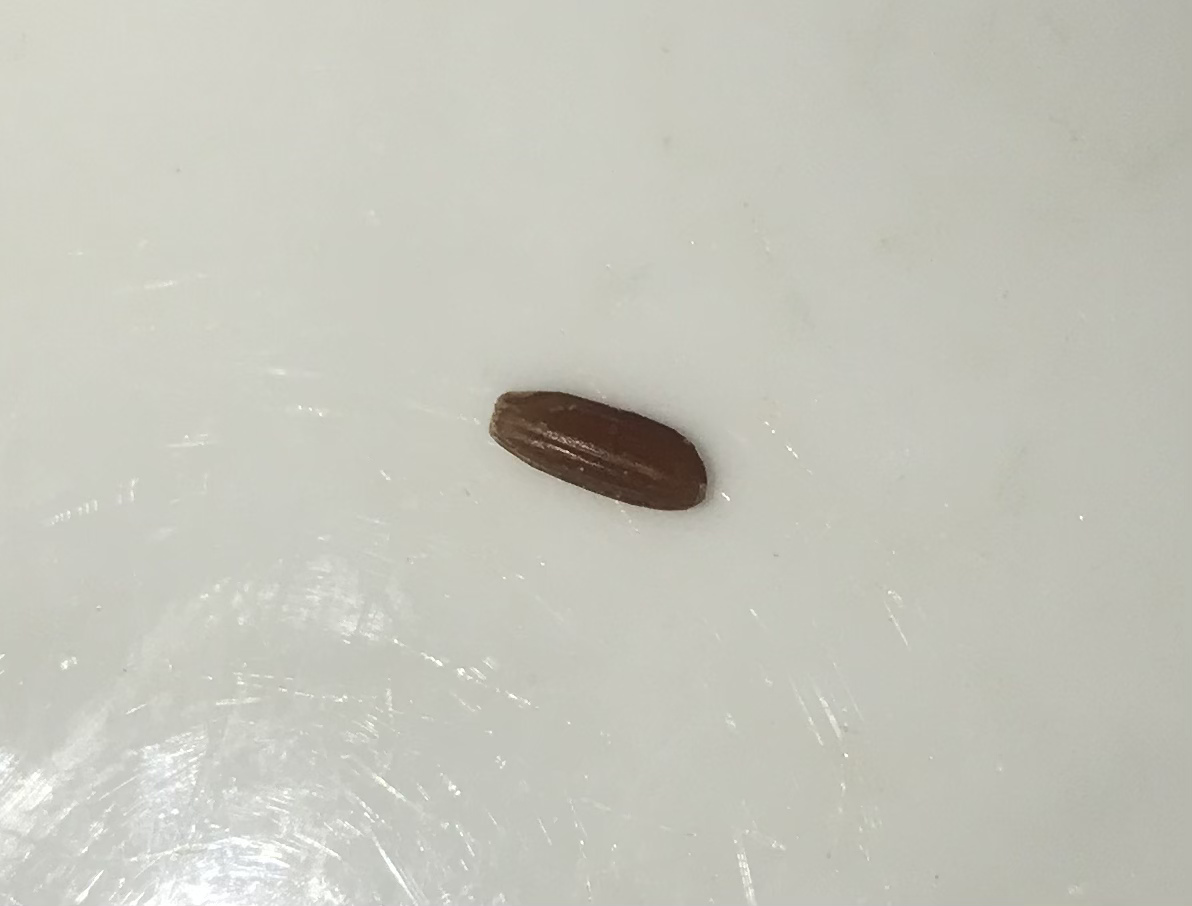Gao Lut Do: (472, 381, 712, 521)
